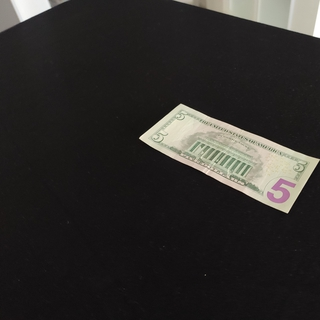5USDBack: (137, 103, 320, 214)
